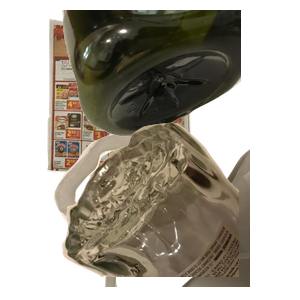glass: (60, 120, 300, 300)
paper: (44, 11, 229, 181)
plastic: (60, 10, 300, 139)
trash: (51, 120, 291, 300)
